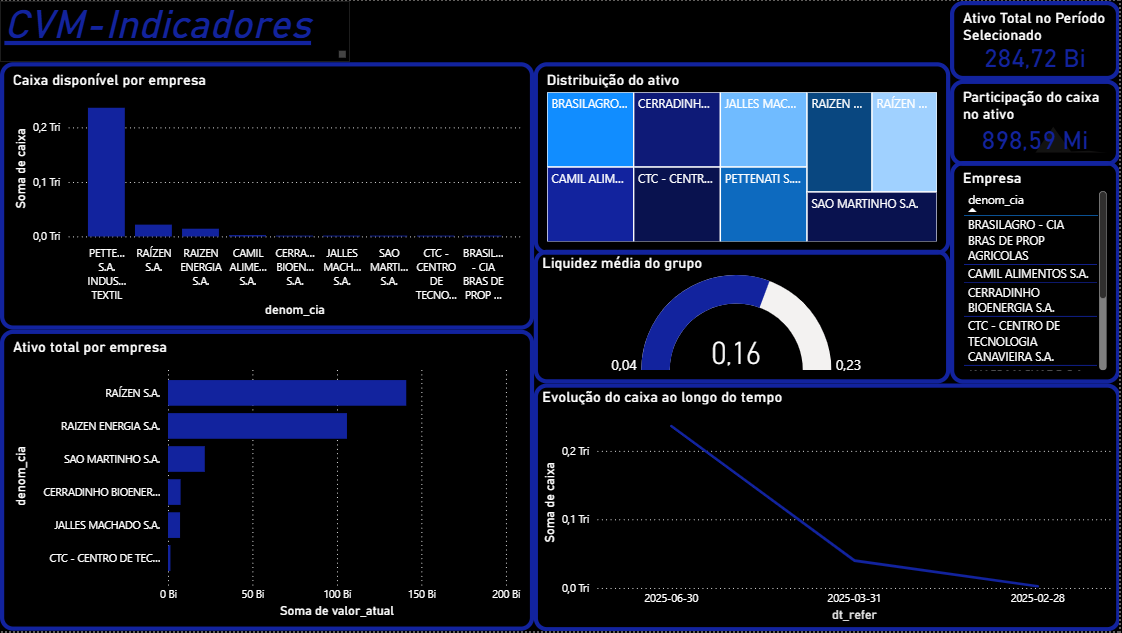

The dashboard page shown, as its layout file describes it:
{"tool":"powerbi","page":{"name":"Página 1","canvas":[1280,720],"ordinal":0},"visuals":[{"type":"clusteredColumnChart","fields":{"Y":["Sum(cvm_dados vw_top10_caixa.caixa)"],"Category":["cvm_dados vw_top10_caixa.denom_cia"]},"box":[61.4,32.9,474.3,268.6],"z":0},{"type":"lineChart","fields":{"Category":["cvm_dados vw_caixa_equivalentes.dt_refer"],"Y":["Sum(cvm_dados vw_caixa_equivalentes.caixa)"]},"box":[640,375.7,527.1,292.9],"z":1000},{"type":"clusteredBarChart","fields":{"Category":["cvm_dados vw_variacao_ativo_total.denom_cia"],"Y":["Sum(cvm_dados vw_variacao_ativo_total.valor_atual)"]},"box":[61.4,375.7,474.3,277.1],"z":2000},{"type":"gauge","fields":{"Y":["CountNonNull(cvm_dados vw_indice_caixa_ativo.denom_cia)"],"MinValue":["Sum(cvm_dados vw_indice_caixa_ativo.indice_caixa_ativo)"]},"box":[651.4,167.1,332.9,152.9],"z":3000},{"type":"tableEx","fields":{"Values":["cvm_dados vw_indice_caixa_ativo.denom_cia"]},"box":[1085.7,15.7,180,315.7],"z":4000},{"type":"kpi","fields":{"TrendLine":["cvm_dados vw_variacao_ativo_total.variacao_valor"],"Indicator":["Sum(cvm_dados vw_variacao_ativo_total.valor_atual)"]},"box":[737.1,15.7,161.4,101.4],"z":5000},{"type":"kpi","fields":{"Indicator":["Sum(cvm_dados vw_caixa_equivalentes.caixa)"],"TrendLine":["cvm_dados vw_caixa_equivalentes.denom_cia"]},"box":[915.7,15.7,152.9,101.4],"z":6000},{"type":"kpi","fields":{"TrendLine":["cvm_dados vw_indice_caixa_ativo.indice_caixa_ativo"],"Indicator":["Sum(cvm_dados vw_top10_caixa.caixa)"]},"box":[551.4,15.7,172.9,101.4],"z":7000}]}

Visuals, with their boxes in screenshot pixels (x1, y1, x2, y2), scaled from the page's 1280x720 canvas onto the 1122x633 screenshot:
clusteredColumnChart - Sum(cvm_dados vw_top10_caixa.caixa) x cvm_dados vw_top10_caixa.denom_cia: (54, 29, 470, 265)
lineChart - cvm_dados vw_caixa_equivalentes.dt_refer x Sum(cvm_dados vw_caixa_equivalentes.caixa): (561, 330, 1023, 588)
clusteredBarChart - cvm_dados vw_variacao_ativo_total.denom_cia x Sum(cvm_dados vw_variacao_ativo_total.valor_atual): (54, 330, 470, 574)
gauge - CountNonNull(cvm_dados vw_indice_caixa_ativo.denom_cia) x Sum(cvm_dados vw_indice_caixa_ativo.indice_caixa_ativo): (571, 147, 863, 281)
tableEx - cvm_dados vw_indice_caixa_ativo.denom_cia: (952, 14, 1109, 291)
kpi - cvm_dados vw_variacao_ativo_total.variacao_valor x Sum(cvm_dados vw_variacao_ativo_total.valor_atual): (646, 14, 788, 103)
kpi - Sum(cvm_dados vw_caixa_equivalentes.caixa) x cvm_dados vw_caixa_equivalentes.denom_cia: (803, 14, 937, 103)
kpi - cvm_dados vw_indice_caixa_ativo.indice_caixa_ativo x Sum(cvm_dados vw_top10_caixa.caixa): (483, 14, 635, 103)
